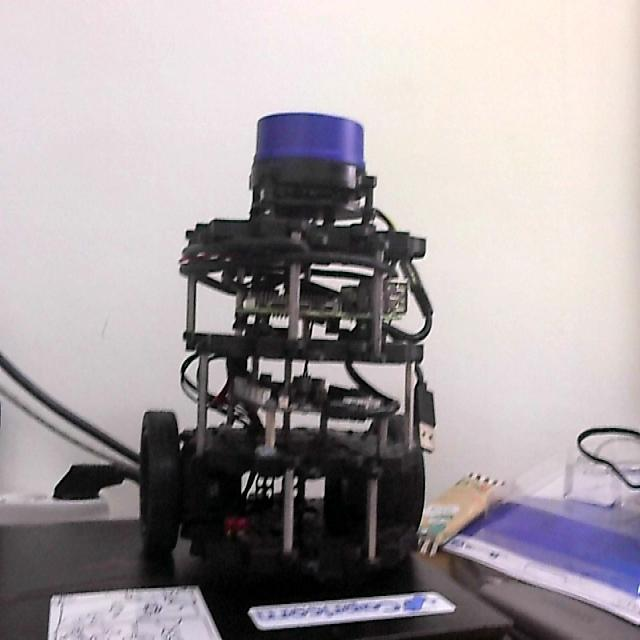turtle: (138, 109, 438, 589)
